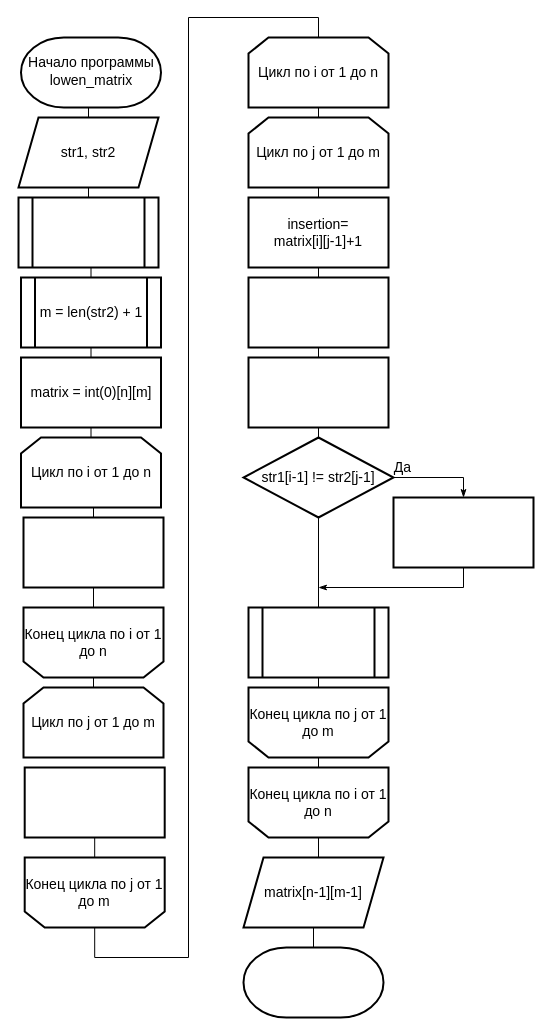
This 551x1036 diagram has some shape labels left out. The shapes that lost their labels are listed below. From the top down, each one's centre as x and y in pixels, then its label:
At pixel 88 232: "n = len(str1) + 1".
At pixel 318 312: "deletion= matrix[i-1][j]+1".
At pixel 318 392: "replacement= matrix[i-1][j-1]".
At pixel 93 552: "matrix[i][0]=i".
At pixel 463 532: "replacement= replacement + 1".
At pixel 318 642: "matrix[i][j]= min(insertion, deletion, replacement)".
At pixel 94 802: "matrix[0][j]=j".
At pixel 313 982: "Конец программы lowen_matrix".
